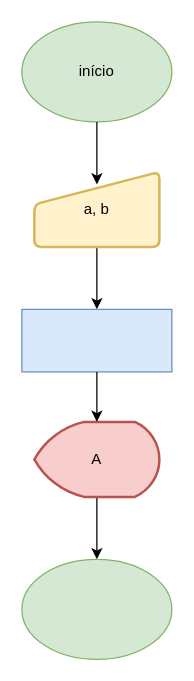
The diagram is 194 pixels wide and 681 high, and some of its shapes have lost their labels. Here are the shapes that lost their labels. From the top down, the box of each, then its label:
(21, 308, 172, 372): A = a * b
(21, 558, 172, 659): fim
